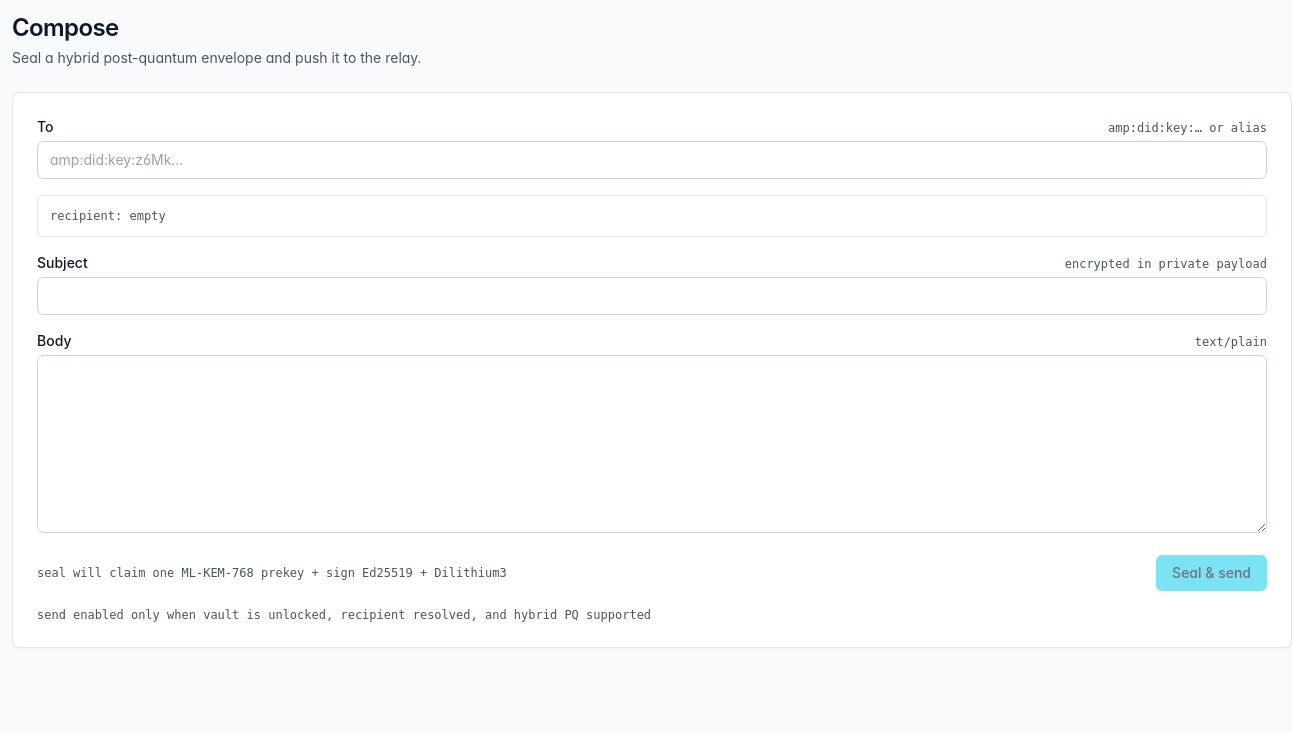
it: Compose page › shows 'not supported — cannot send' for a non-PQ recipient
Step 1. Type "testuser@local" into the field with placeholder "amp:did:key:z6Mk…" → (652, 160), box [37,141,1267,179]
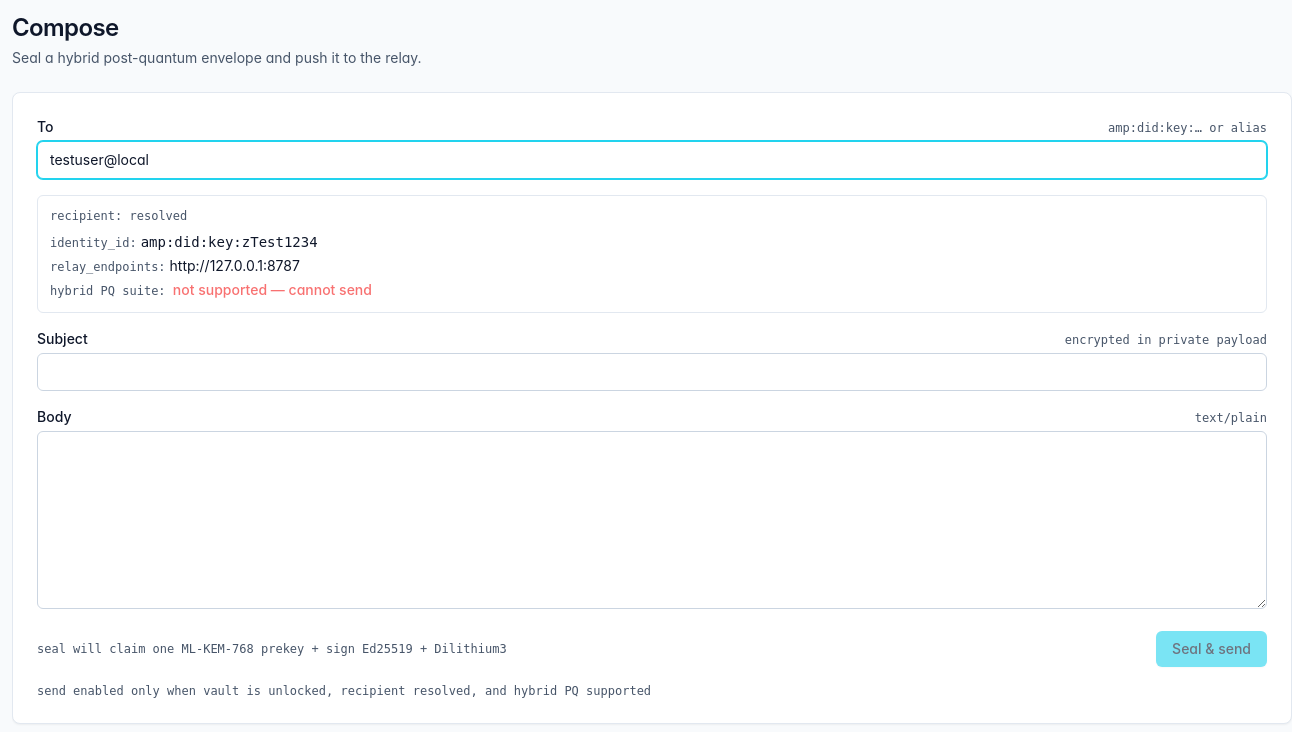
Expected: the text "not supported — cannot send" is shown, [173,281,372,298]
